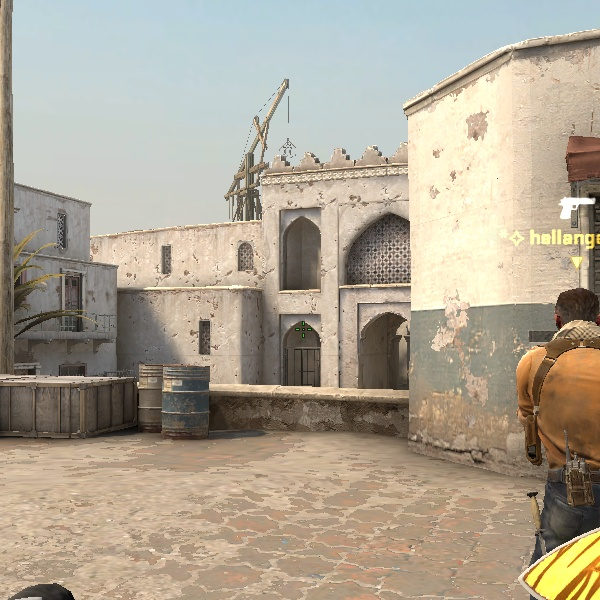t_body: (487, 273, 600, 599)
t_head: (541, 279, 600, 343)
